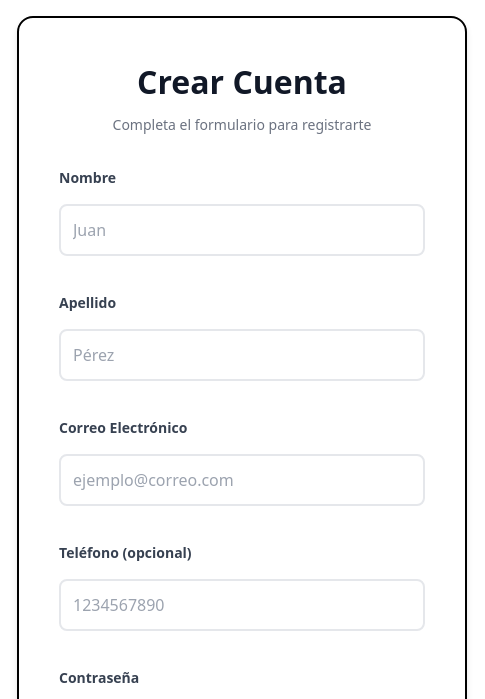
it: RegisterPage › Validación de campos › debe validar que el nombre tenga al menos 2 caracteres
The width and height of the screenshot is (485, 699).
In the field labelled "Nombre": point(242, 230) [59,204,425,256], type "A"
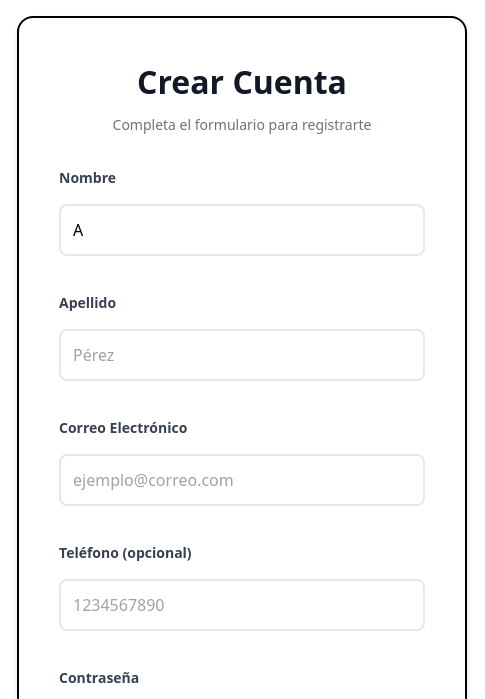
Leave the field labelled "Nombre", box [59,204,425,256]
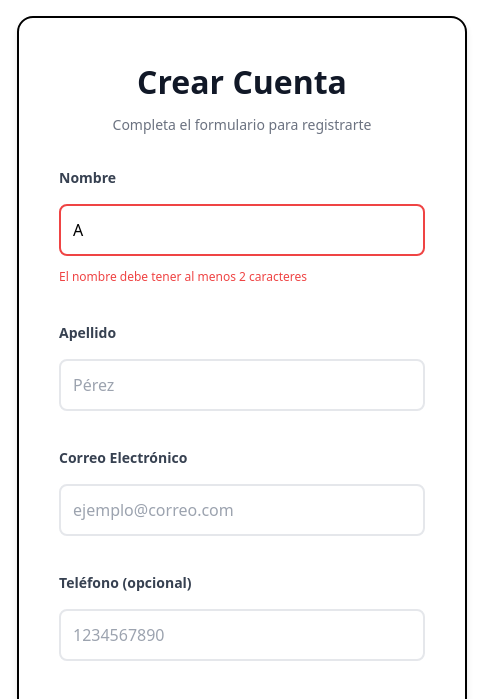
expect the text "El nombre debe tener al menos 2 caracteres" is shown: met, box [59,268,307,285]
